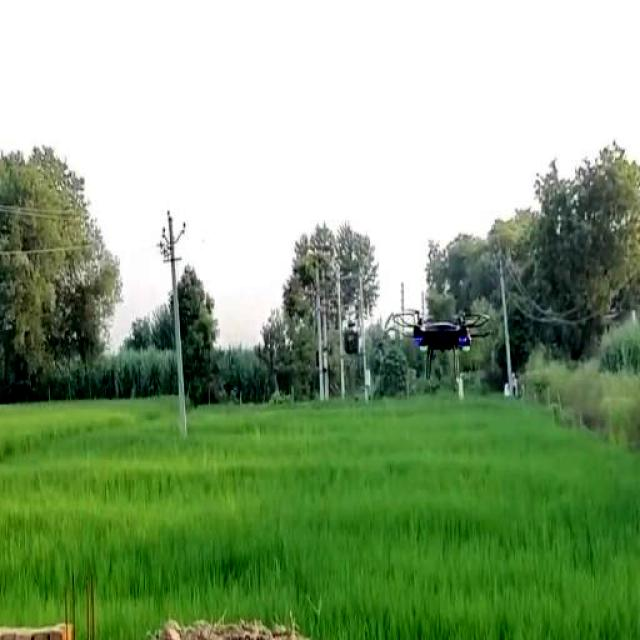bird: (400, 302, 486, 360)
